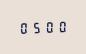five: (30, 20, 41, 34)
zero: (18, 20, 29, 34), (54, 19, 65, 33), (42, 20, 53, 33)
